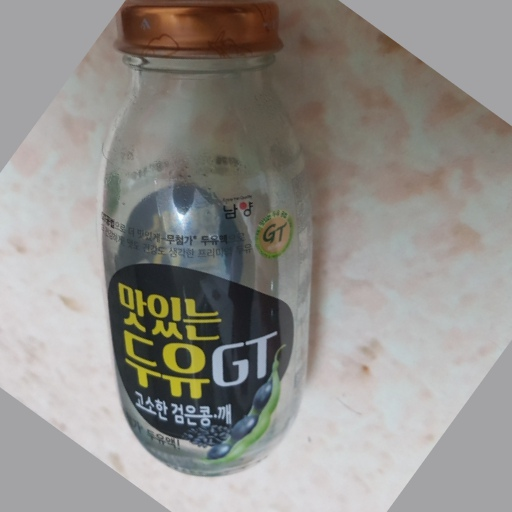Glass_4: (104, 2, 314, 477)
